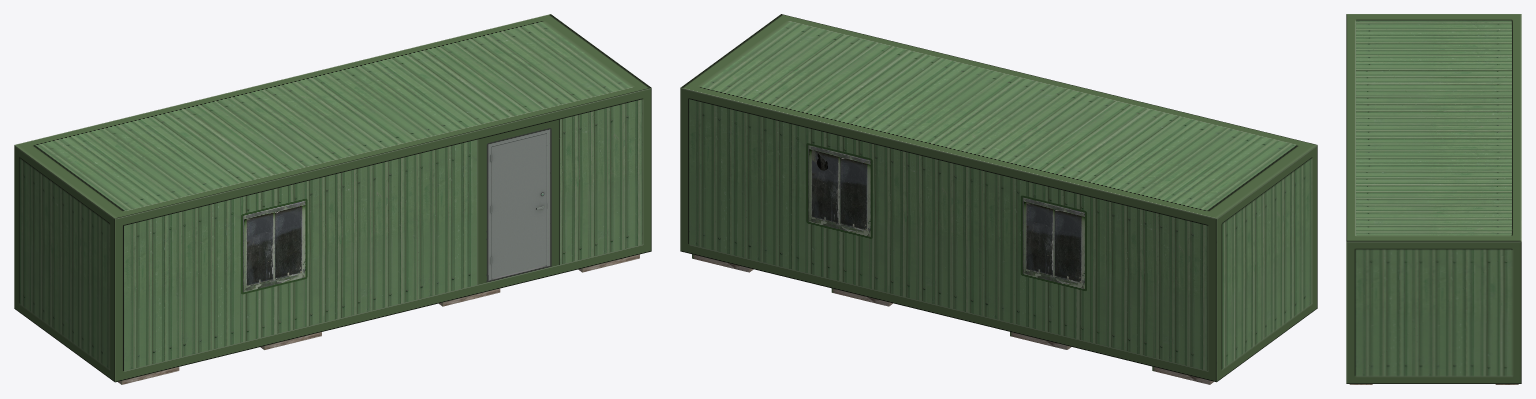
Rendered from ContainerHouse17.FBX.
The picture shows the model from 3 angles, left to right: view 1: azimuth 30°, elevation 25°; view 2: azimuth 150°, elevation 25°; view 3: azimuth 270°, elevation 25°; orthographic projection. The views are drawn at different scales.
Visible parts, largest first — view 1: ContainerHouse17, ContainerHouse17wood; view 2: ContainerHouse17, ContainerHouse17wood; view 3: ContainerHouse17.
Part boxes in pixels (bbox=[...]): ContainerHouse17: bbox=[14, 14, 651, 382]; ContainerHouse17wood: bbox=[118, 254, 639, 384]; ContainerHouse17: bbox=[680, 14, 1317, 382]; ContainerHouse17wood: bbox=[692, 254, 1213, 384]; ContainerHouse17: bbox=[1346, 14, 1521, 383].
Bounding box in the file's own units: 363 × 110 × 118.
